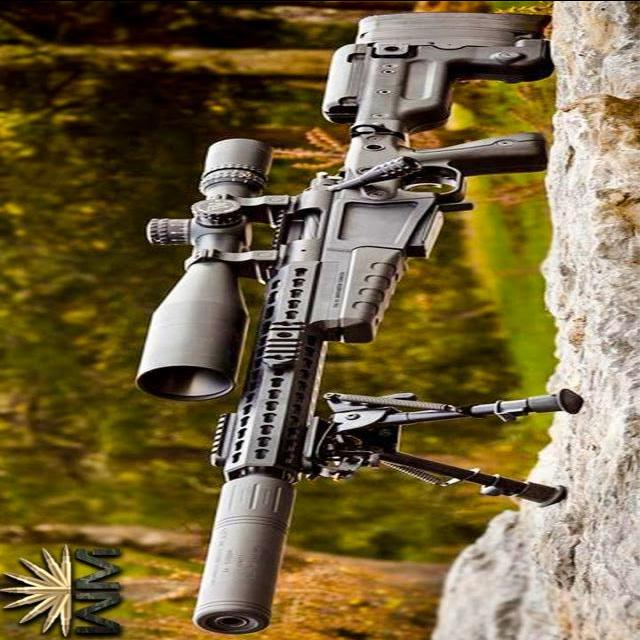scope: (131, 125, 280, 409)
sniper rifle: (129, 1, 602, 632)
